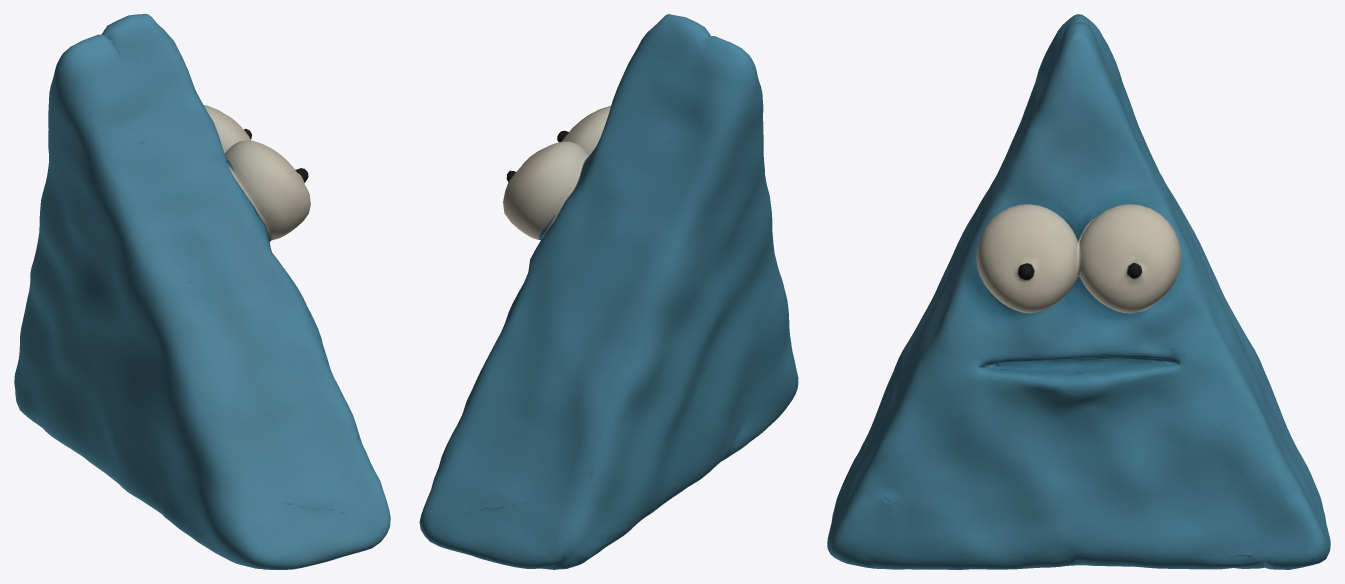
The model's file is pete.glb.
The picture shows the model from 3 angles, left to right: view 1: azimuth 30°, elevation 25°; view 2: azimuth 150°, elevation 25°; view 3: azimuth 270°, elevation 25°; orthographic projection.
Visible parts, largest first — view 1: tripo_node_16e3d946; view 2: tripo_node_16e3d946; view 3: tripo_node_16e3d946.
Part boxes in pixels (x1,y1,x2,y2): tripo_node_16e3d946: (14,14,390,569); tripo_node_16e3d946: (419,14,798,569); tripo_node_16e3d946: (827,14,1330,569).
Bounding box in the file's own units: 0.5014 × 0.9997 × 0.9478.
Materials: 1 (1 with a texture image).
